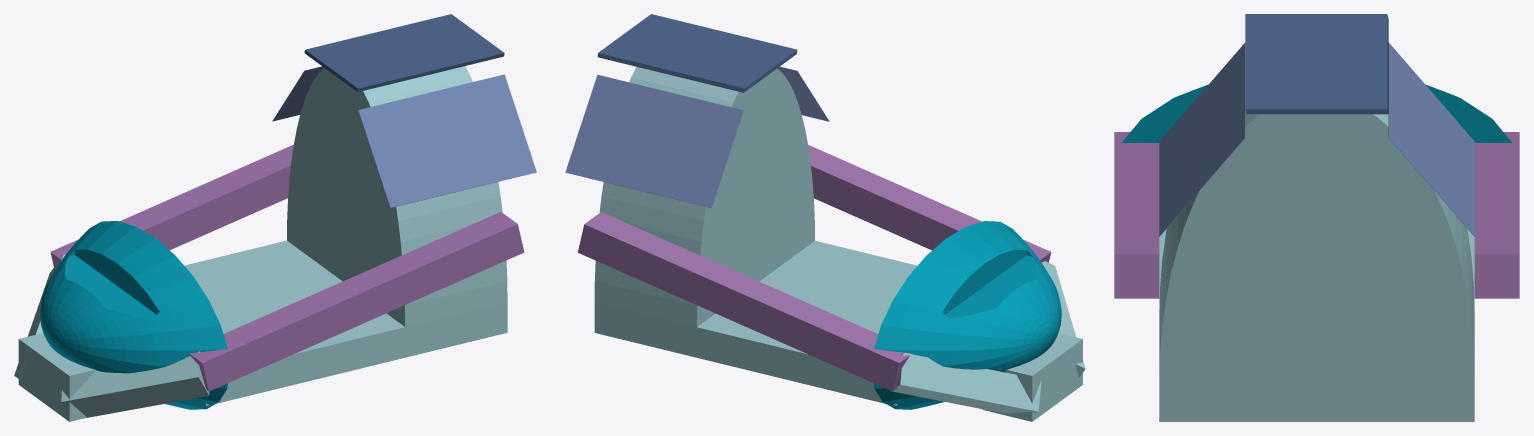
Rendered from POGOvip-1.glb.
3 views of the same model, side by side, from view 1: azimuth 30°, elevation 25°; view 2: azimuth 150°, elevation 25°; view 3: azimuth 270°, elevation 25° (orthographic). The views are drawn at different scales.
Parts seen in each view (by area): view 1: Mesh_Mesh_head_geo.001_lambert2SG.001; view 2: Mesh_Mesh_head_geo.001_lambert2SG.001; view 3: Mesh_Mesh_head_geo.001_lambert2SG.001.
Part boxes in pixels (left/top/right/bottom): Mesh_Mesh_head_geo.001_lambert2SG.001: left=14, top=14, right=536, bottom=421; Mesh_Mesh_head_geo.001_lambert2SG.001: left=565, top=14, right=1085, bottom=421; Mesh_Mesh_head_geo.001_lambert2SG.001: left=1114, top=14, right=1519, bottom=421.
Size of the model in its own units: 15 by 9.13 by 9.
